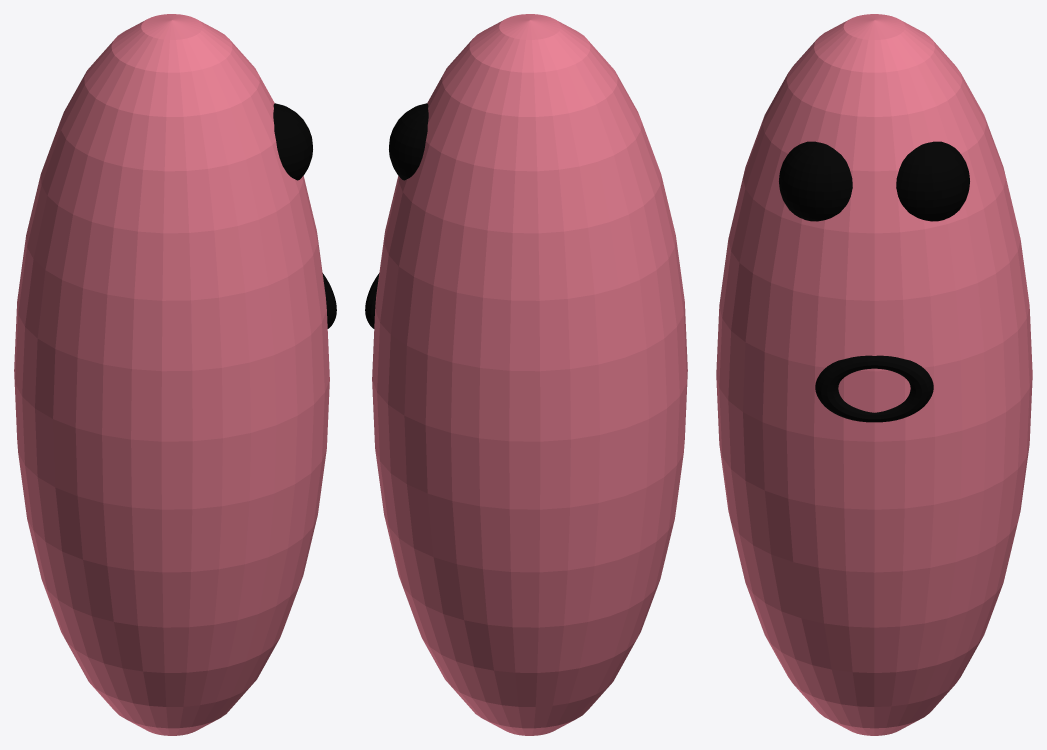
File: test_pnj.fbx
3 views of the same model, side by side, from view 1: azimuth 30°, elevation 25°; view 2: azimuth 150°, elevation 25°; view 3: azimuth 270°, elevation 25° (orthographic).
Visible parts, largest first — view 1: body, eyes; view 2: body, eyes; view 3: body, eyes, mouth.
Part boxes in pixels (x1=…): body: x1=14, y1=14, x2=329, y2=735; eyes: x1=273, y1=103, x2=312, y2=180; body: x1=372, y1=14, x2=687, y2=735; eyes: x1=389, y1=103, x2=428, y2=180; body: x1=716, y1=14, x2=1032, y2=735; eyes: x1=779, y1=141, x2=969, y2=221; mouth: x1=815, y1=355, x2=933, y2=422.
Bounding box in the file's own units: 81.58 × 200 × 80.85.
